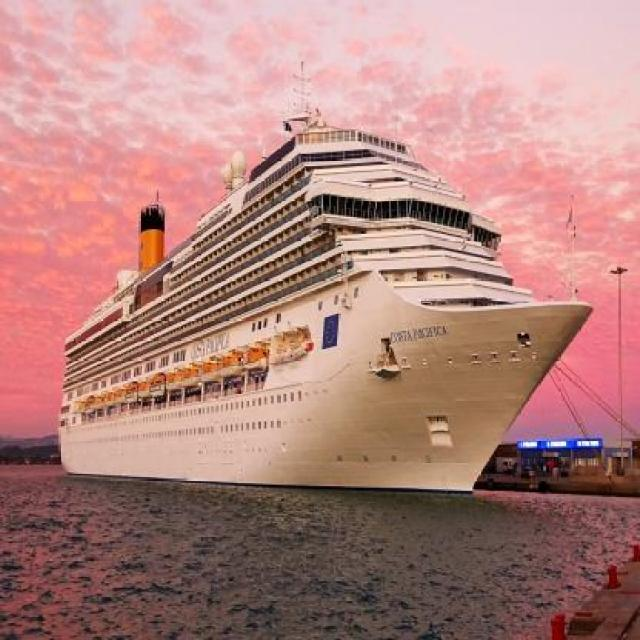ship: (56, 56, 593, 496), (58, 55, 592, 493)
